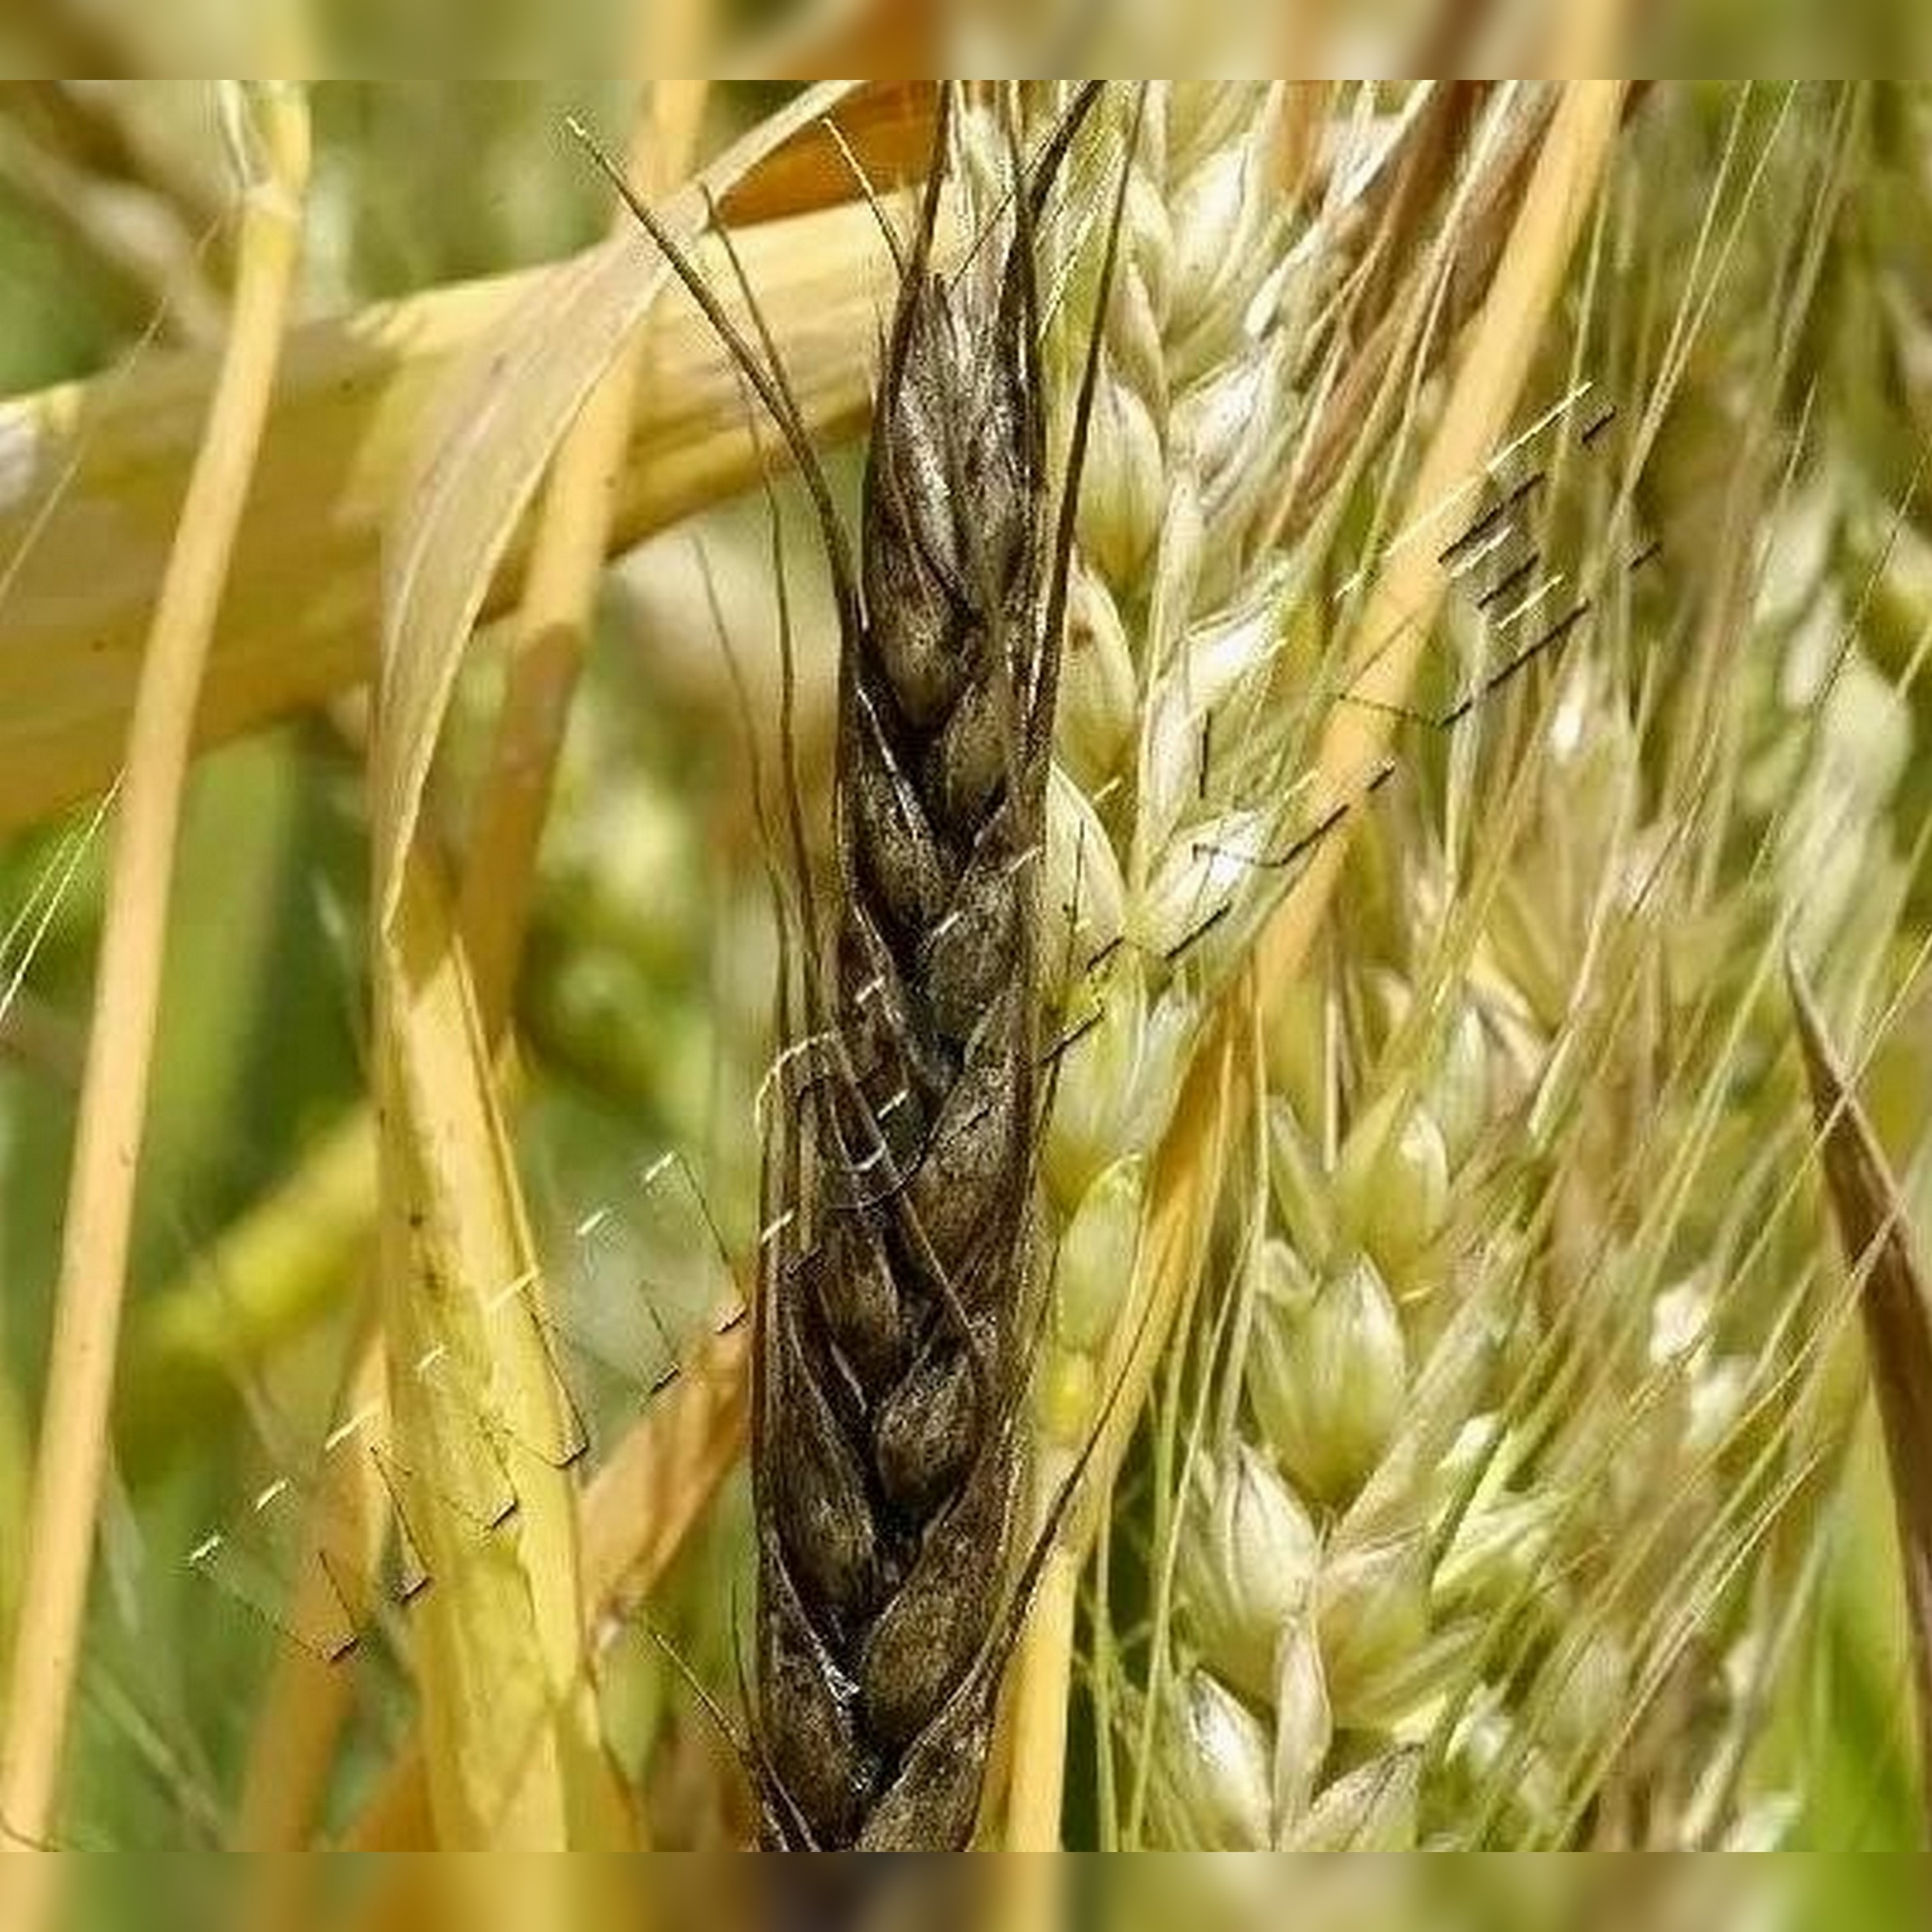Wheat Loose Smut: (743, 175, 1074, 1822)
